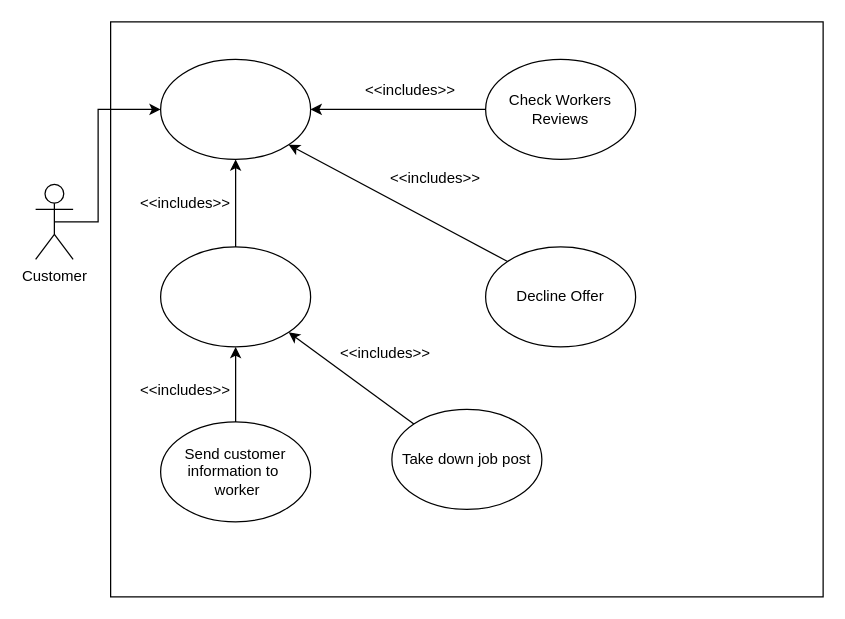
Some shapes in this 845 by 619 pixel diagram are drawn without their labels. Here are the shapes that lost their labels. From the top down, the box of each, then its label:
(159, 58, 311, 159): Receive info about worker who accepted job
(159, 246, 311, 347): Accept Offer
